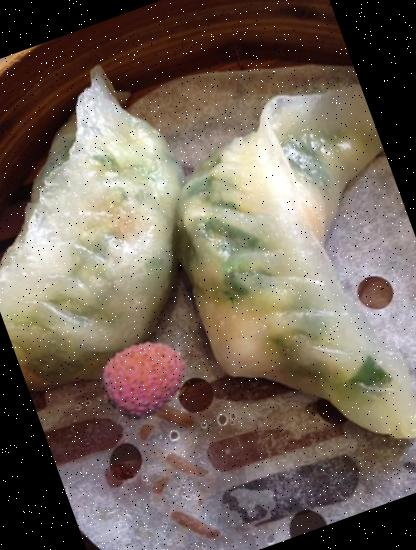Lychee: (88, 320, 200, 433)
